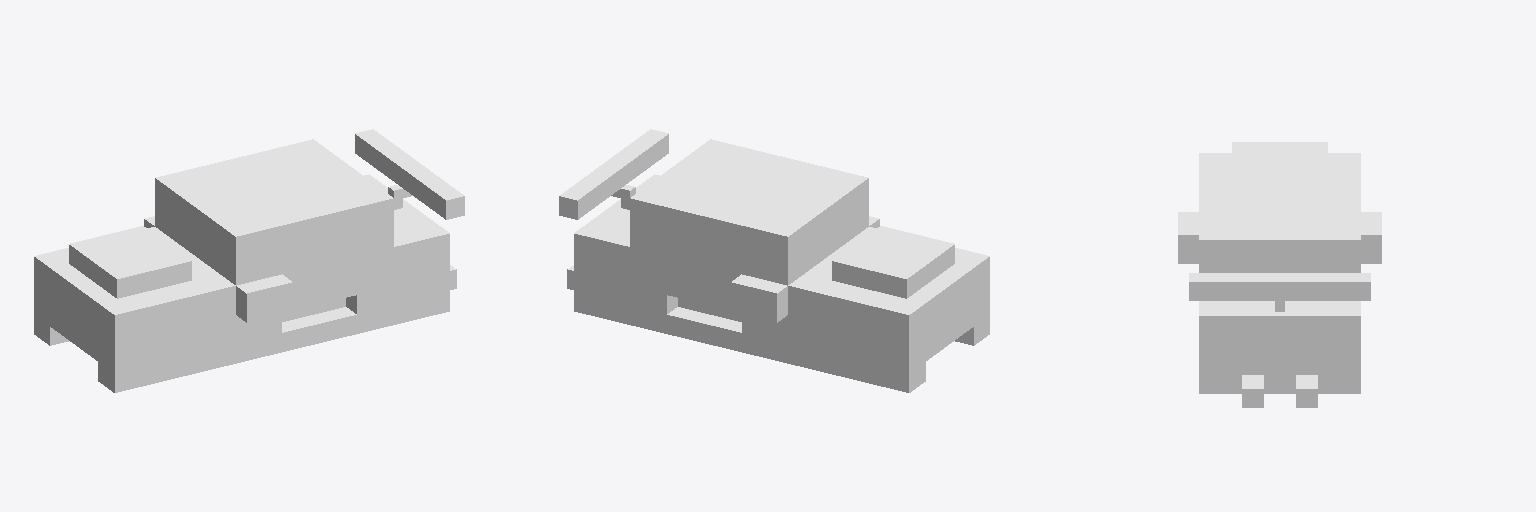
File: car_redHot.obj
3 views of the same model, side by side, from view 1: azimuth 30°, elevation 25°; view 2: azimuth 150°, elevation 25°; view 3: azimuth 270°, elevation 25° (orthographic).
Visible parts, largest first — view 1: object 1; view 2: object 1; view 3: object 1.
Part boxes in pixels (x1,y1,x2,y2): object 1: (34,129,464,392); object 1: (559,129,989,392); object 1: (1178,142,1381,407).
Bounding box in the file's own units: 3.9 × 1.3 × 1.9.